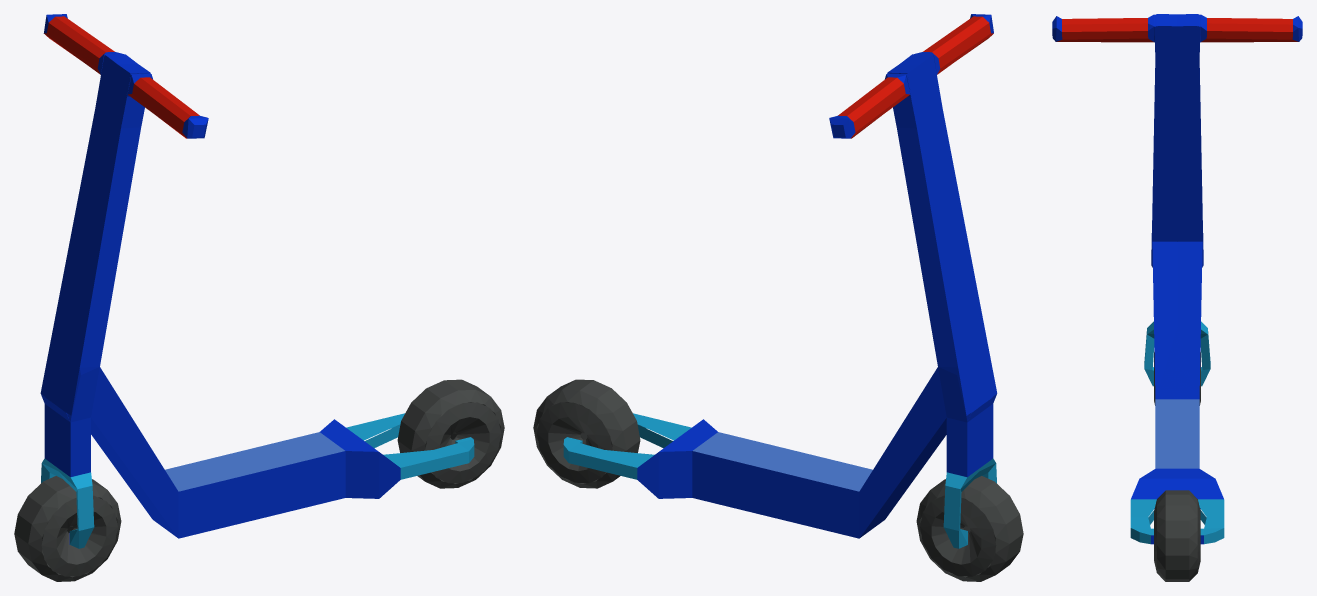
The model's file is Skuter.fbx.
The picture shows the model from 3 angles, left to right: view 1: azimuth 30°, elevation 25°; view 2: azimuth 150°, elevation 25°; view 3: azimuth 270°, elevation 25°; orthographic projection. The views are drawn at different scales.
Parts seen in each view (by area): view 1: Куб, Окружность.001, Окружность.002; view 2: Куб, Окружность.001, Окружность.002; view 3: Куб, Окружность.002.
Part boxes in pixels (x1,y1,x2,y2): Куб: (40,14,474,548); Окружность.001: (14,476,121,581); Окружность.002: (397,379,504,488); Куб: (563,14,997,548); Окружность.001: (916,476,1023,581); Окружность.002: (533,379,640,488); Куб: (1052,14,1302,544); Окружность.002: (1154,490,1200,581).
Size of the model in its own units: 972 by 974 by 519.
